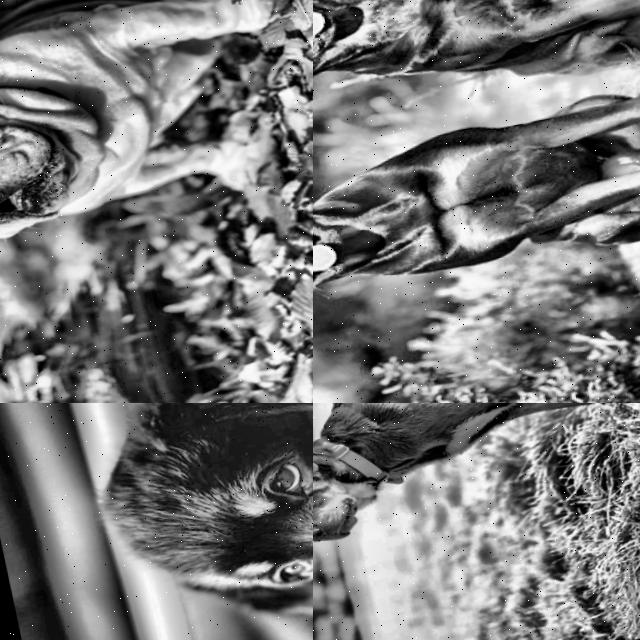bulldog: (0, 46, 120, 279)
rottweiler: (31, 403, 313, 640), (313, 416, 405, 577), (313, 172, 376, 352), (313, 0, 377, 133)
